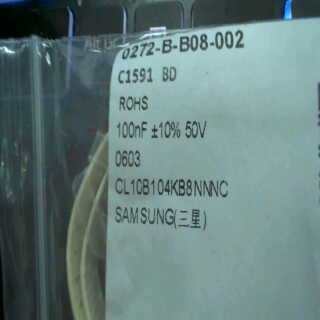100nF: (114, 118, 151, 143)
